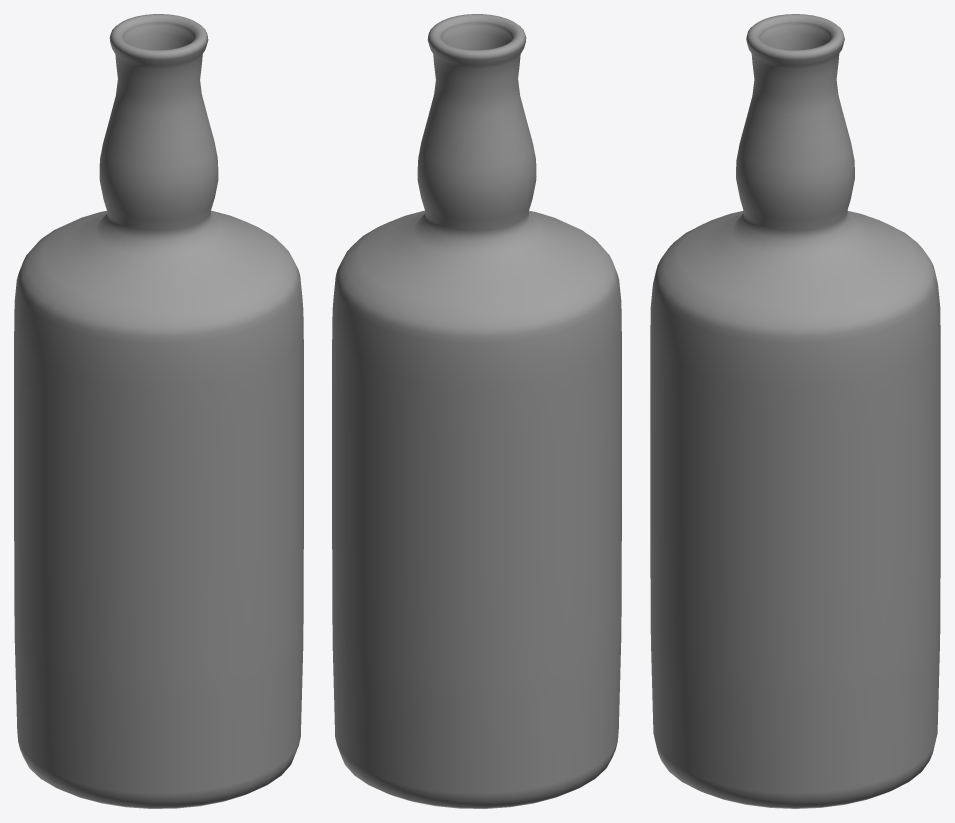
The model's file is Bottle.glb.
3 renders of one model, left to right at view 1: azimuth 30°, elevation 25°; view 2: azimuth 150°, elevation 25°; view 3: azimuth 270°, elevation 25°, orthographic.
Parts seen in each view (by area): view 1: Bottle; view 2: Bottle; view 3: Bottle.
Part boxes in pixels (bbox=[...]): Bottle: bbox=[14, 14, 303, 808]; Bottle: bbox=[332, 14, 621, 808]; Bottle: bbox=[650, 14, 940, 808].
Bounding box in the file's own units: 0.1046 × 0.2867 × 0.1046.
1 material, 1 textured.
